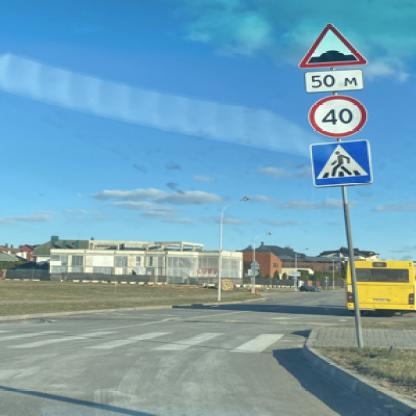Speed Limit 40: (311, 96, 366, 137)
